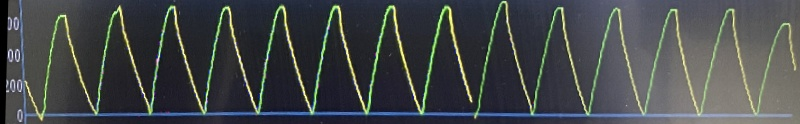normal_volume: (36, 0, 769, 119)
